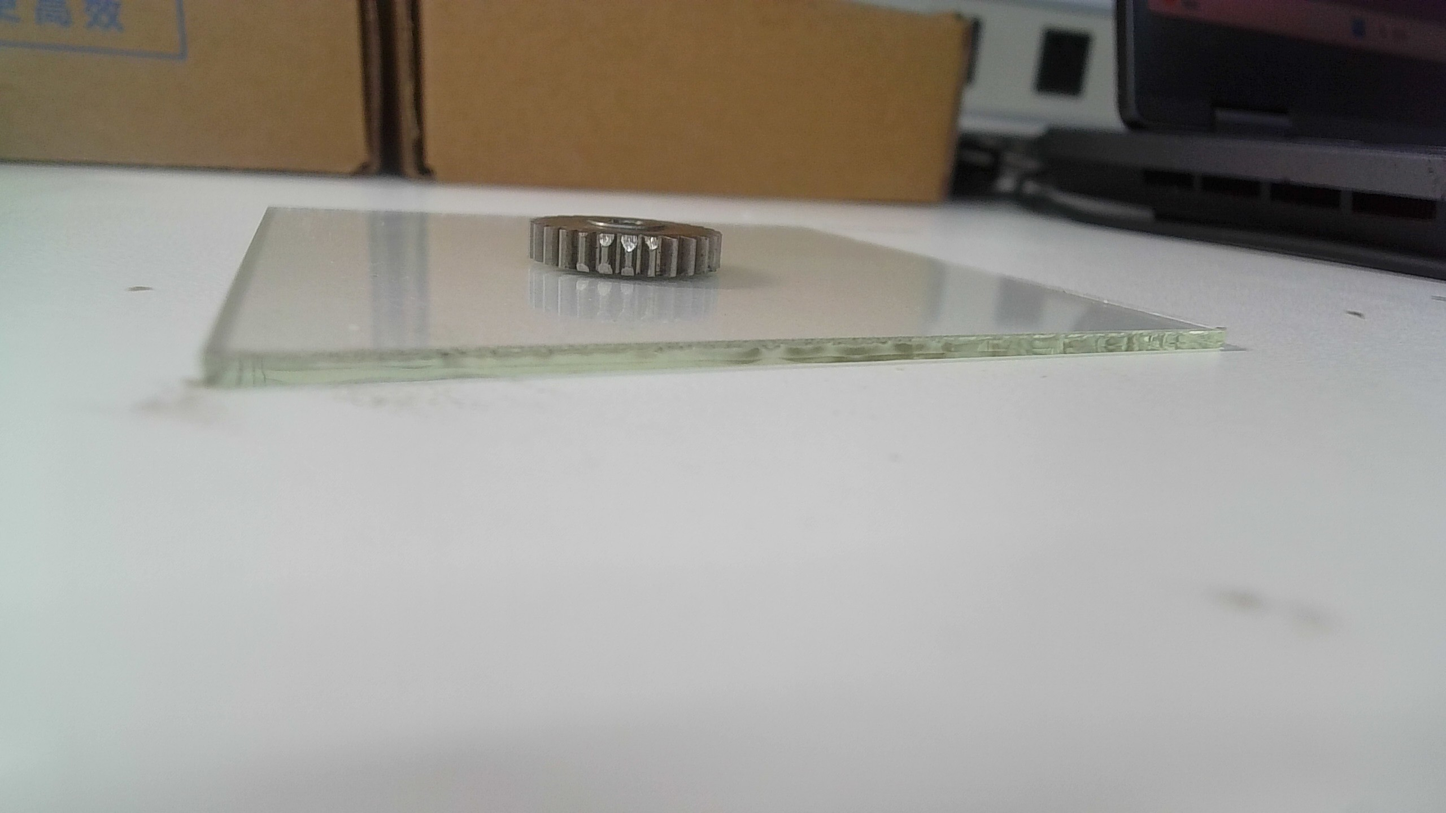gear: (522, 209, 727, 287)
